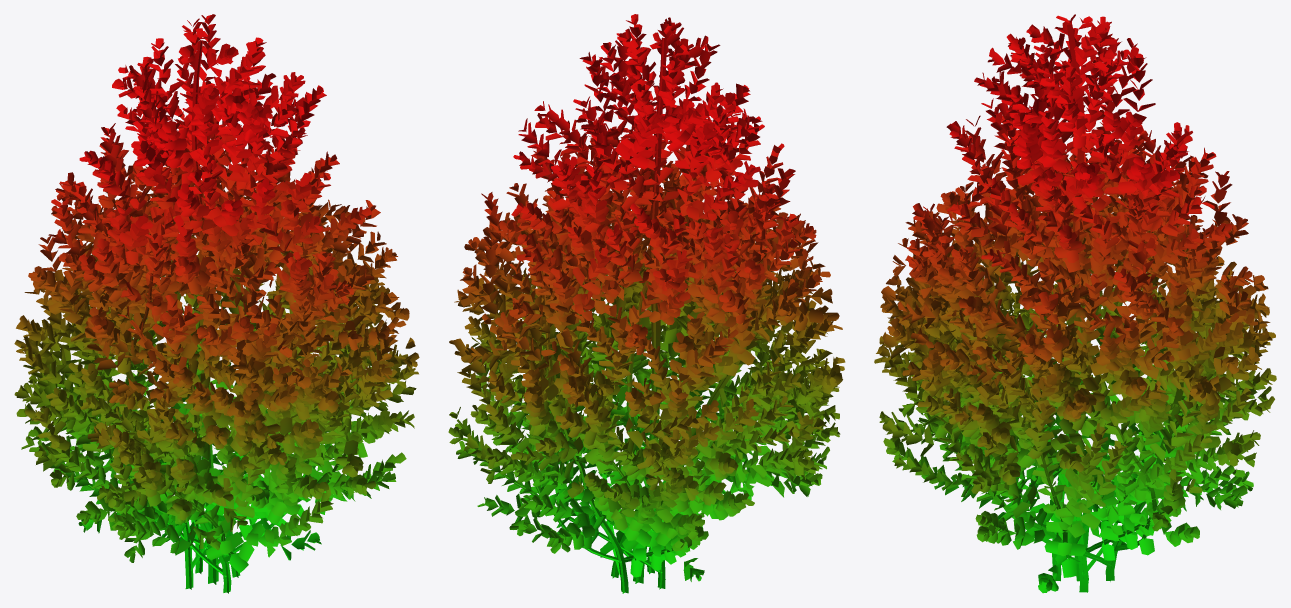
Rendered from Var5_LOD4.fbx.
3 views of the same model, side by side, from view 1: azimuth 30°, elevation 25°; view 2: azimuth 150°, elevation 25°; view 3: azimuth 270°, elevation 25° (orthographic).
Parts seen in each view (by area): view 1: _48mz_Var5_LOD4; view 2: _48mz_Var5_LOD4; view 3: _48mz_Var5_LOD4.
Boxes of the visible parts, x1=… form: _48mz_Var5_LOD4: x1=14, y1=14, x2=419, y2=593; _48mz_Var5_LOD4: x1=448, y1=14, x2=845, y2=593; _48mz_Var5_LOD4: x1=874, y1=14, x2=1276, y2=593.
Bounding box in the file's own units: 80.68 × 123 × 80.06.
